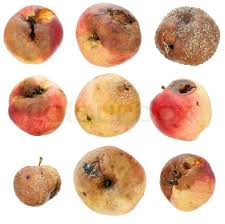damaged_apple: (73, 149, 152, 214), (72, 75, 144, 136), (1, 74, 71, 136), (153, 6, 225, 65), (1, 5, 69, 67), (74, 7, 145, 66), (149, 77, 212, 142), (158, 150, 218, 211), (6, 161, 68, 210)
